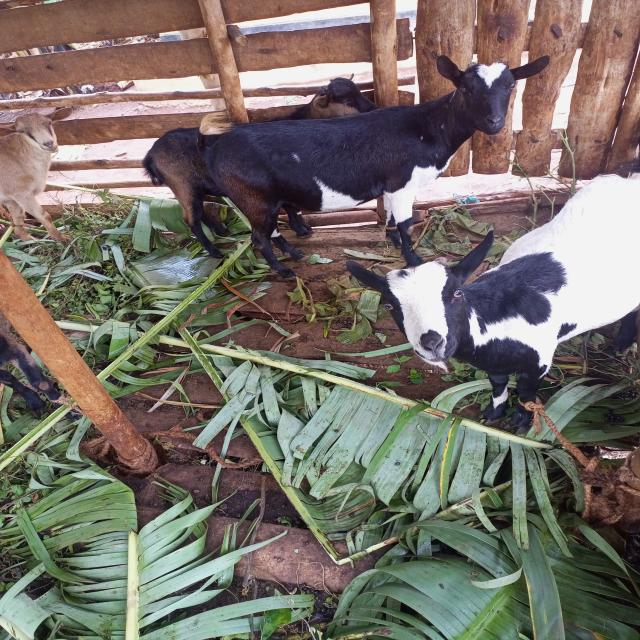goat: (314, 160, 640, 474)
